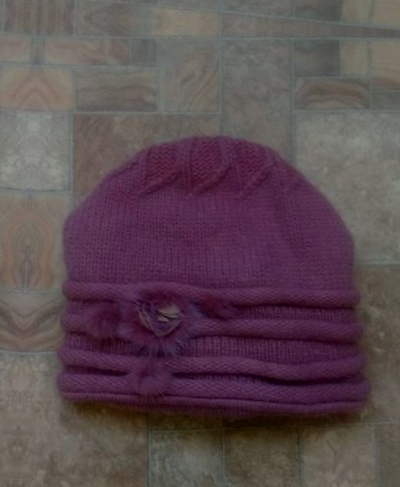Hat: (40, 123, 392, 431), (0, 104, 12, 412)
